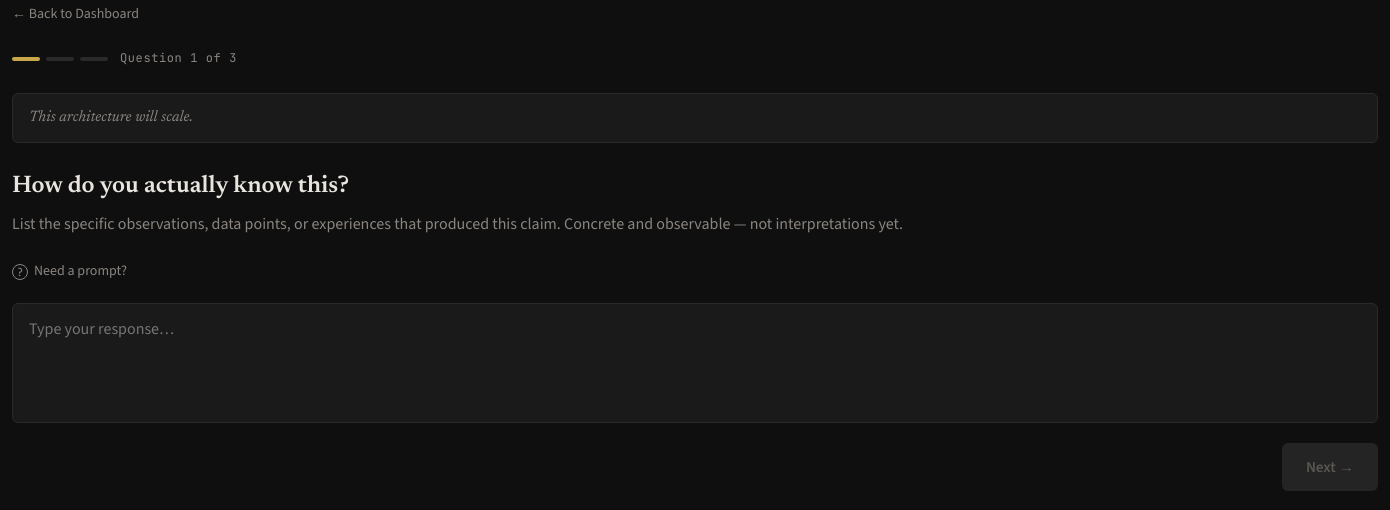
Test: PressureTest › "Next" saves response and advances to step 2
In the text box: (695,363) x1=12 y1=303 x2=1378 y2=423, type "We measured throughput at 10k rps."
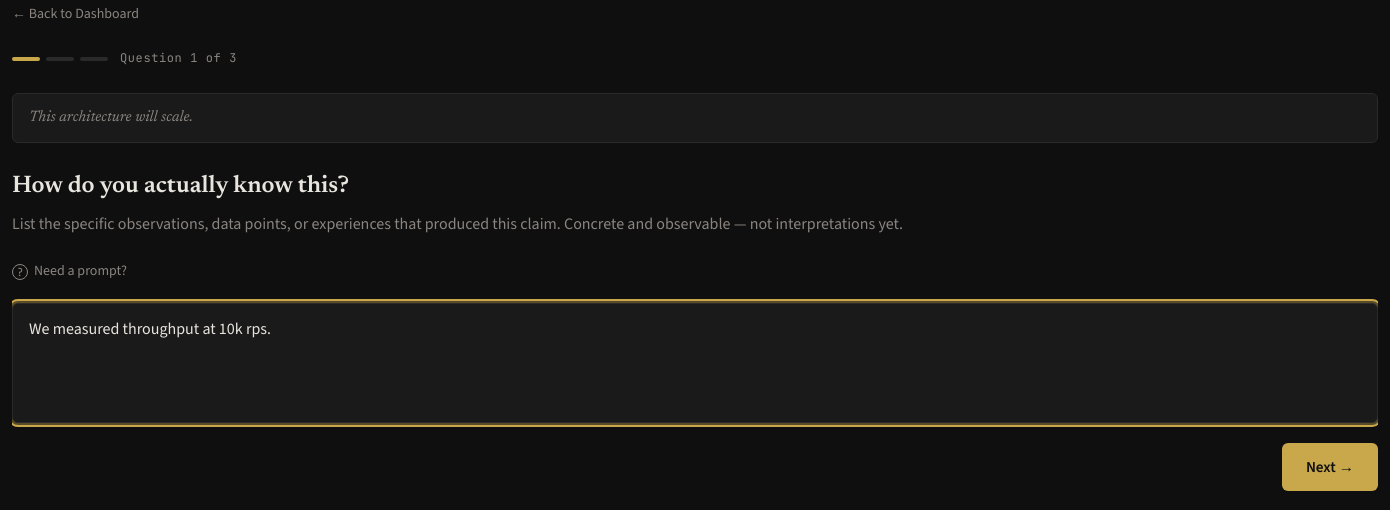
Click the button "Next →": (1330,467) x1=1282 y1=443 x2=1378 y2=491
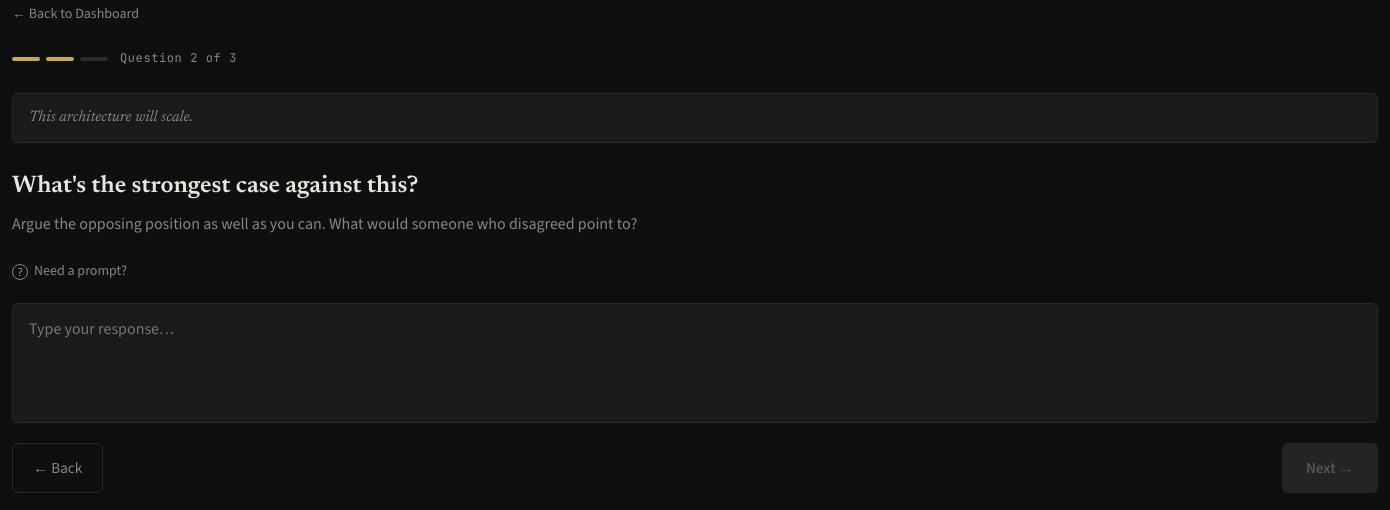
Result: the text "Question 2 of 3" is shown at x1=120 y1=49 x2=237 y2=69
